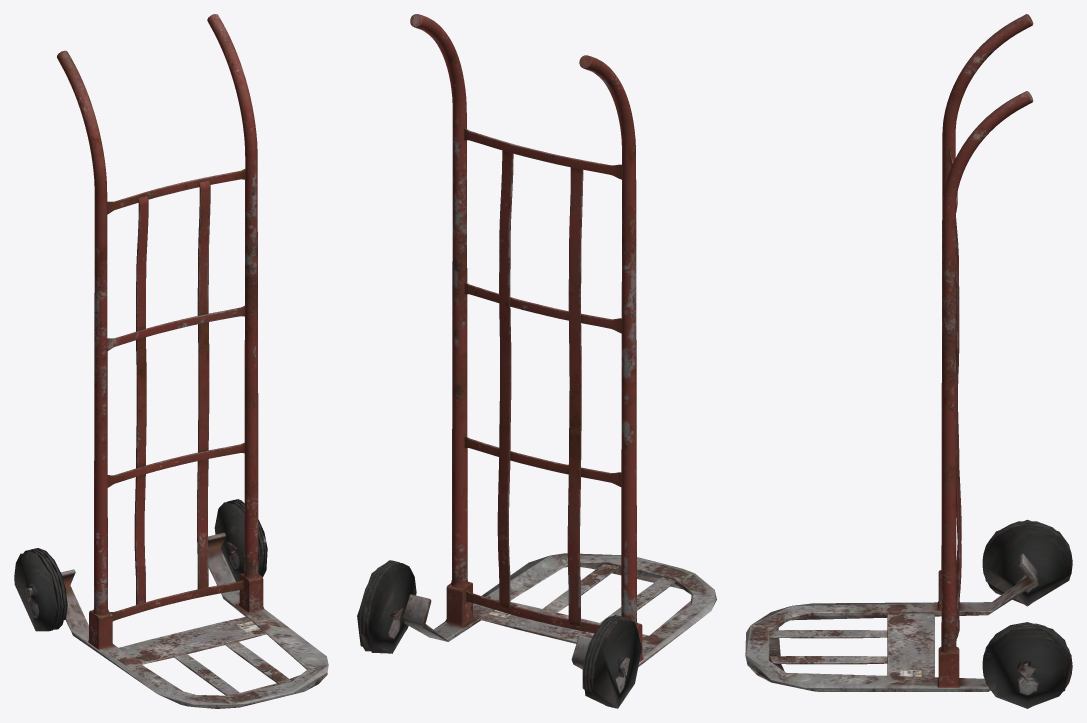
The model's file is hand_truck.glb.
The picture shows the model from 3 angles, left to right: view 1: azimuth 30°, elevation 25°; view 2: azimuth 150°, elevation 25°; view 3: azimuth 270°, elevation 25°; orthographic projection. The views are drawn at different scales.
Parts seen in each view (by area): view 1: hand_truck; view 2: hand_truck; view 3: hand_truck.
Part boxes in pixels (<box>): hand_truck: <box>14,14,328,708</box>; hand_truck: <box>357,14,716,708</box>; hand_truck: <box>745,14,1072,708</box>.
Bounding box in the file's own units: 0.5789 × 1.4 × 0.6921.
1 material, 1 textured.
